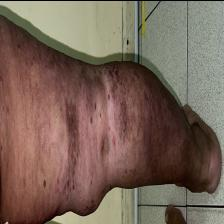Psoriasis vulgaris: (142, 80, 162, 132), (116, 78, 133, 138)
